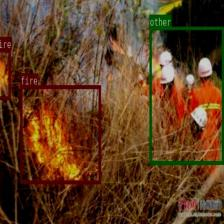fire: (20, 85, 100, 183), (0, 48, 10, 99)
